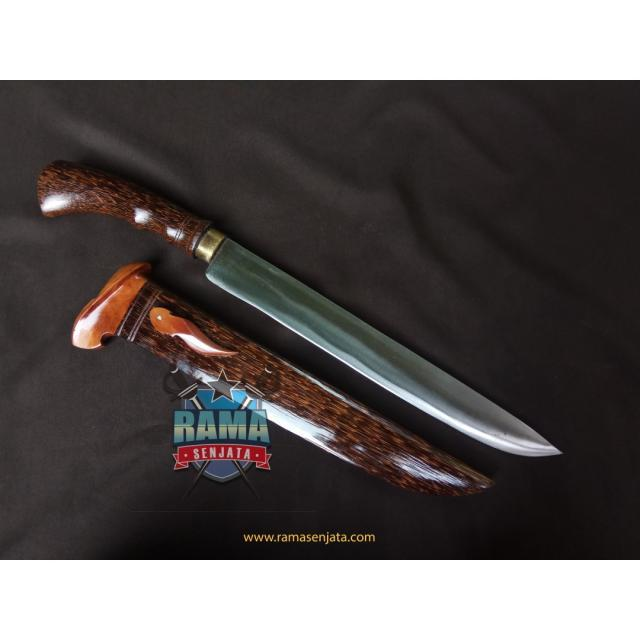Pisau: (24, 140, 589, 474)
